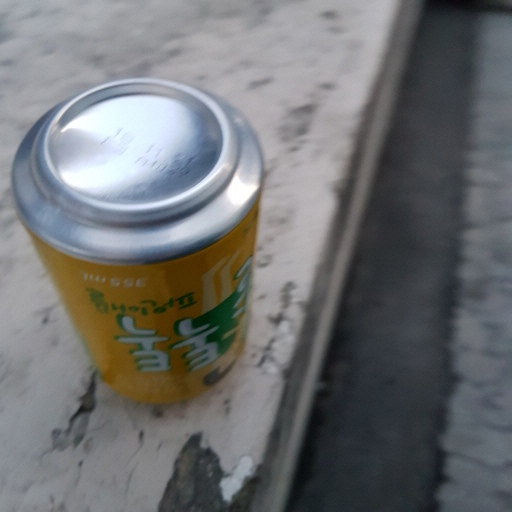Metal_0: (13, 76, 270, 412)
